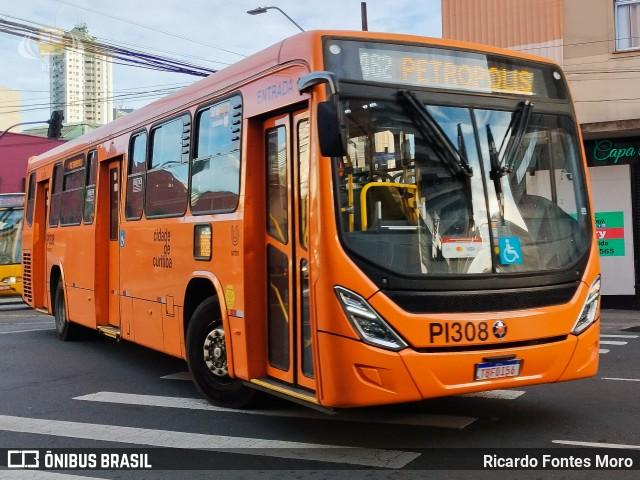PETROPOLIS: (395, 52, 537, 97)
